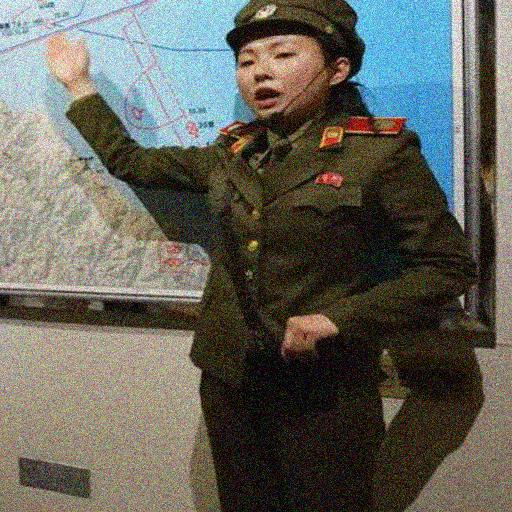north army: (59, 5, 475, 512)
